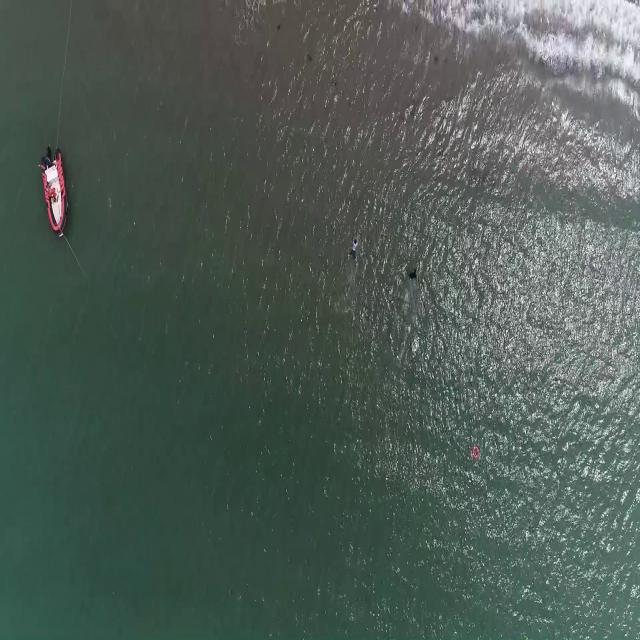boat: (38, 148, 68, 236)
life_buoy: (472, 444, 481, 460)
person: (349, 231, 362, 261), (409, 263, 418, 283)
